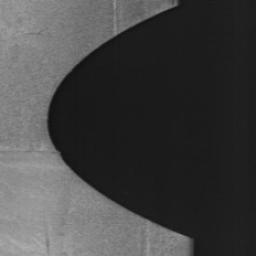Crescent gap: (47, 6, 190, 238)
